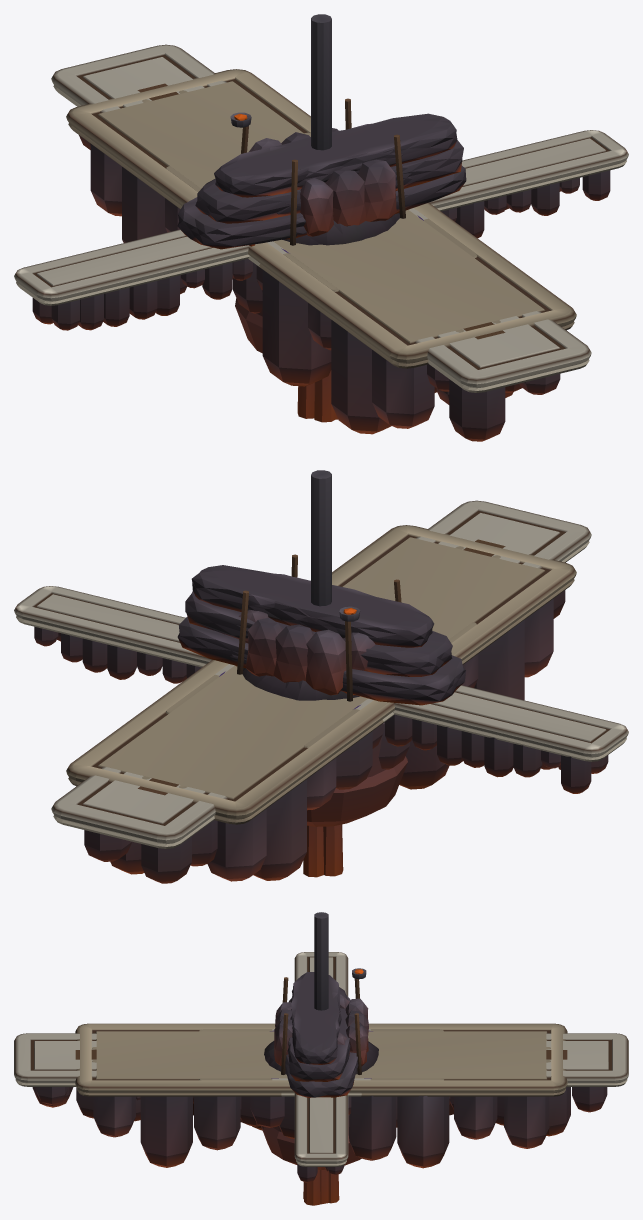
The model's file is volcano-2-B5A5U6V5.glb.
3 views of the same model, one above another, from view 1: azimuth 30°, elevation 25°; view 2: azimuth 150°, elevation 25°; view 3: azimuth 270°, elevation 25° (orthographic). The views are drawn at different scales.
Visible parts, largest first — view 1: block_10x2x32_column#0, block_32x2x3.5_grate#0, block_7x2x40#0, spout_11.5x2#0, hopper_4x3#0, press_2x6x6#0, spout_7x2#0, geyserVent_3#0, support_0_round#0, disc_10x1.5#0, belt_8x1.5x16x0#0; view 2: block_10x2x32_column#0, block_32x2x3.5_grate#0, block_7x2x40#0, spout_11.5x2#0, hopper_4x3#0, disc_10x1.5#0, press_2x6x6#0, support_0_round#0, geyserVent_3#0, spout_7x2#0, belt_8x1.5x16x0#0; view 3: block_10x2x32_column#0, block_7x2x40#0, spout_11.5x2#0, block_32x2x3.5_grate#0, hopper_4x3#0, press_2x6x6#0, disc_10x1.5#0, support_0_round#0, belt_8x1.5x16x0#0, block_10x2x7#0, geyserVent_3#0, spout_7x2#0.
Part boxes in pixels (bbox=[...]): block_10x2x32_column#0: bbox=[66, 69, 576, 434]; block_32x2x3.5_grate#0: bbox=[14, 130, 628, 330]; block_7x2x40#0: bbox=[51, 44, 591, 441]; spout_11.5x2#0: bbox=[177, 113, 466, 249]; hopper_4x3#0: bbox=[230, 98, 405, 245]; press_2x6x6#0: bbox=[311, 14, 331, 150]; spout_7x2#0: bbox=[270, 123, 411, 239]; geyserVent_3#0: bbox=[282, 213, 399, 245]; support_0_round#0: bbox=[297, 370, 338, 422]; disc_10x1.5#0: bbox=[235, 208, 420, 353]; belt_8x1.5x16x0#0: bbox=[166, 132, 477, 291]; block_10x2x32_column#0: bbox=[66, 525, 576, 881]; block_32x2x3.5_grate#0: bbox=[14, 586, 628, 793]; block_7x2x40#0: bbox=[51, 500, 591, 883]; spout_11.5x2#0: bbox=[177, 565, 465, 705]; hopper_4x3#0: bbox=[237, 554, 401, 701]; disc_10x1.5#0: bbox=[222, 664, 407, 826]; press_2x6x6#0: bbox=[311, 470, 331, 606]; support_0_round#0: bbox=[303, 824, 343, 877]; geyserVent_3#0: bbox=[242, 668, 359, 700]; spout_7x2#0: bbox=[224, 573, 380, 695]; belt_8x1.5x16x0#0: bbox=[166, 622, 476, 747]; block_10x2x32_column#0: bbox=[75, 1023, 567, 1168]; block_7x2x40#0: bbox=[14, 1033, 628, 1136]; spout_11.5x2#0: bbox=[285, 972, 357, 1097]; block_32x2x3.5_grate#0: bbox=[294, 952, 348, 1182]; hopper_4x3#0: bbox=[274, 968, 368, 1074]; press_2x6x6#0: bbox=[314, 912, 328, 1010]; disc_10x1.5#0: bbox=[261, 1078, 364, 1169]; support_0_round#0: bbox=[303, 1169, 339, 1205]; belt_8x1.5x16x0#0: bbox=[199, 1029, 443, 1080]; block_10x2x7#0: bbox=[272, 1029, 370, 1138]; geyserVent_3#0: bbox=[264, 1041, 378, 1074]; spout_7x2#0: bbox=[287, 992, 358, 1068].
Bounding box in the file's own units: 32 × 20.4 × 40.
